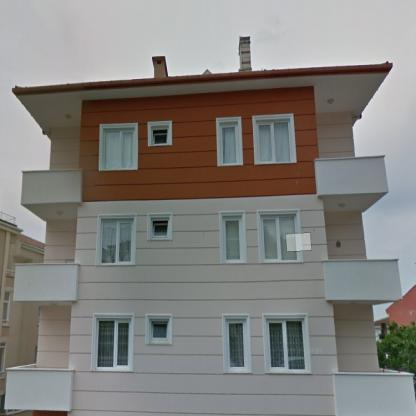window: (268, 322, 305, 370), (262, 216, 298, 259), (97, 319, 129, 367), (259, 122, 291, 162), (102, 221, 132, 262), (104, 129, 133, 167), (224, 219, 241, 259), (229, 322, 244, 367), (221, 126, 237, 163), (149, 320, 168, 340), (152, 128, 169, 143), (153, 220, 168, 237)
